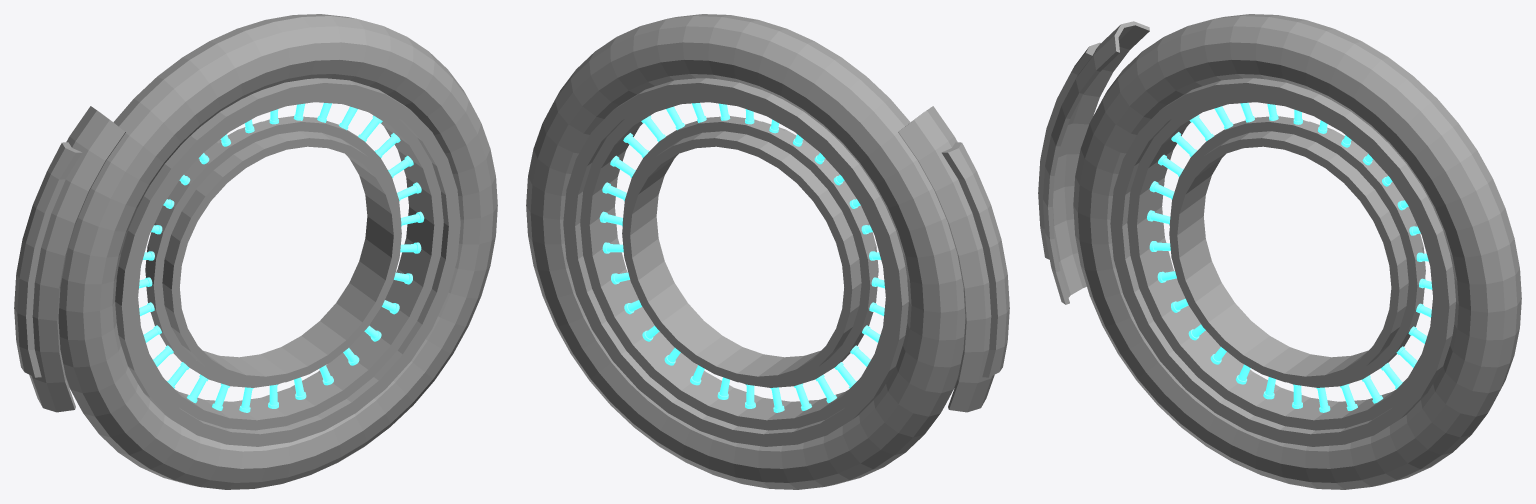
File: Sci fi portal.fbx
The picture shows the model from 3 angles, left to right: view 1: azimuth 30°, elevation 25°; view 2: azimuth 150°, elevation 25°; view 3: azimuth 330°, elevation 25°; orthographic projection.
Parts seen in each view (by area): view 1: Torus.002, Cylinder, Cylinder.002, Cylinder.001, Torus.001, Cylinder.004, Cylinder.005; view 2: Torus.002, Cylinder, Cylinder.002, Cylinder.001, Torus.001, Cylinder.004, Cylinder.005; view 3: Torus.002, Cylinder, Cylinder.002, Cylinder.001, Torus.001, Cylinder.004, Cylinder.005.
Boxes of the visible parts, bbox=[...] form: Torus.002: bbox=[58, 14, 497, 489]; Cylinder: bbox=[115, 78, 460, 446]; Cylinder.002: bbox=[145, 121, 401, 385]; Cylinder.001: bbox=[133, 95, 443, 430]; Torus.001: bbox=[14, 106, 125, 412]; Cylinder.004: bbox=[146, 116, 401, 387]; Cylinder.005: bbox=[139, 103, 424, 412]; Torus.002: bbox=[526, 14, 965, 489]; Cylinder: bbox=[563, 78, 908, 446]; Cylinder.002: bbox=[622, 121, 878, 385]; Cylinder.001: bbox=[580, 95, 890, 430]; Torus.001: bbox=[898, 106, 1009, 412]; Cylinder.004: bbox=[622, 116, 877, 387]; Cylinder.005: bbox=[599, 103, 884, 412]; Torus.002: bbox=[1073, 14, 1521, 489]; Cylinder: bbox=[1110, 78, 1455, 446]; Cylinder.002: bbox=[1169, 121, 1425, 385]; Cylinder.001: bbox=[1127, 95, 1437, 430]; Torus.001: bbox=[1038, 21, 1149, 304]; Cylinder.004: bbox=[1169, 116, 1425, 387]; Cylinder.005: bbox=[1147, 102, 1432, 412].
Bounding box in the file's own units: 260 × 240 × 33.44.
